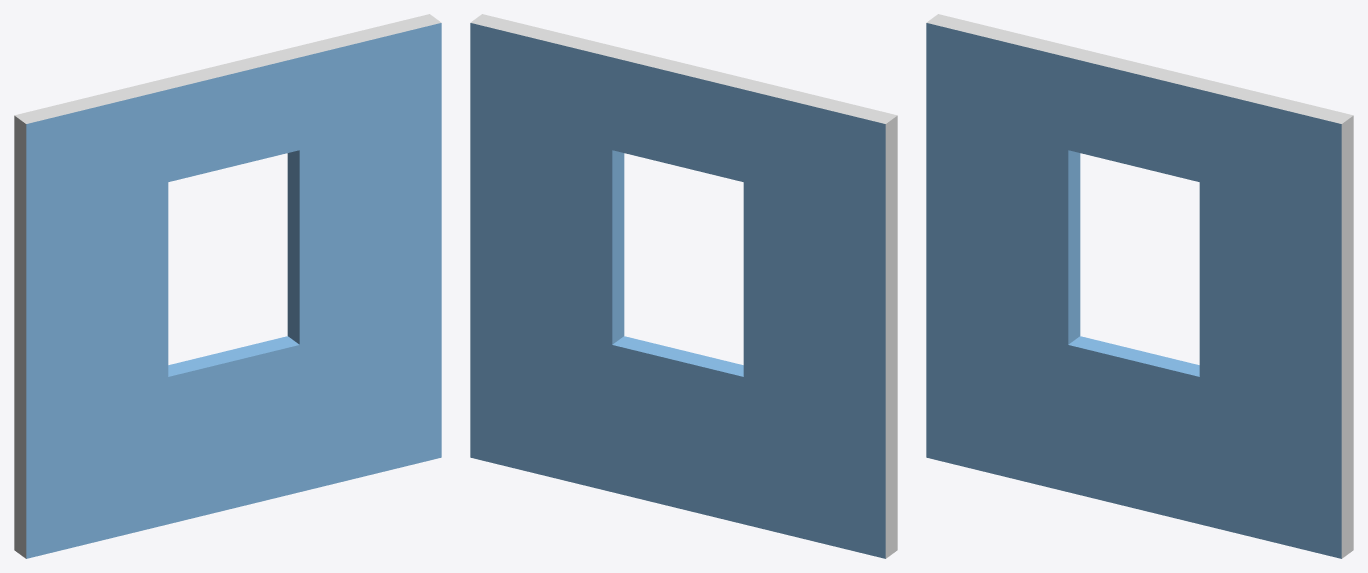
Rendered from wall_088.fbx.
The picture shows the model from 3 angles, left to right: view 1: azimuth 30°, elevation 25°; view 2: azimuth 150°, elevation 25°; view 3: azimuth 330°, elevation 25°; orthographic projection.
Visible parts, largest first — view 1: wall_088; view 2: wall_088; view 3: wall_088.
Part boxes in pixels (x1,y1,x2,y2): wall_088: [14, 14, 441, 558]; wall_088: [470, 14, 897, 558]; wall_088: [926, 14, 1353, 558].
Bounding box in the file's own units: 400 × 20 × 400.
